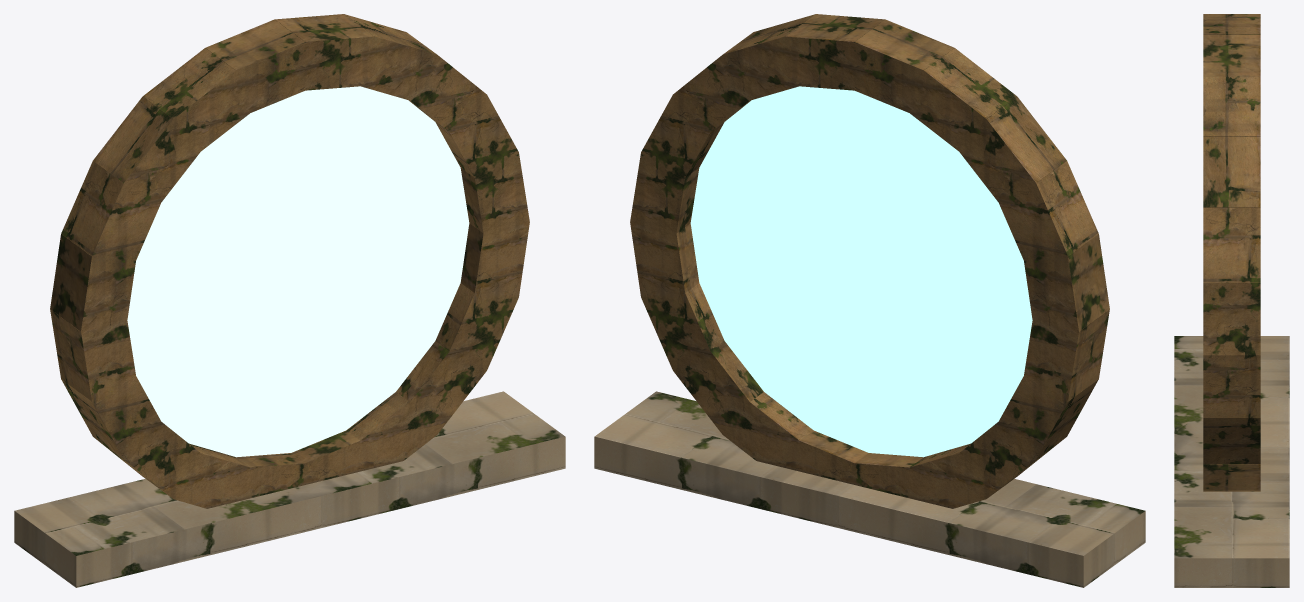
Rendered from Portal_NextFloor.fbx.
3 renders of one model, left to right at view 1: azimuth 30°, elevation 25°; view 2: azimuth 150°, elevation 25°; view 3: azimuth 270°, elevation 25°, orthographic. The views are drawn at different scales.
Visible parts, largest first — view 1: Portal_NextFloor; view 2: Portal_NextFloor; view 3: Portal_NextFloor.
Boxes of the visible parts, x1,y1,x2,y2 form: Portal_NextFloor: (14, 14, 565, 587); Portal_NextFloor: (594, 14, 1145, 587); Portal_NextFloor: (1174, 14, 1289, 587).
Size of the model in its own units: 6.4 by 5.94 by 1.4.
